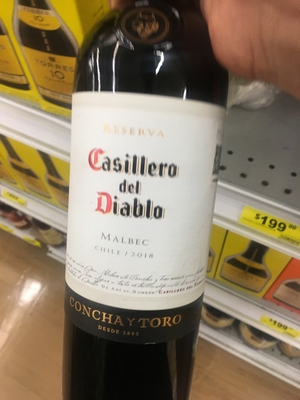casillero del diablo malbec: (52, 36, 234, 400)
